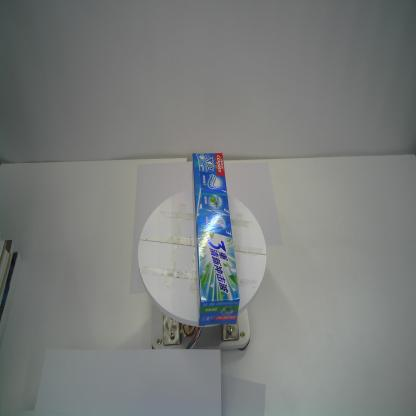Personal Hygiene: (192, 152, 240, 327)
